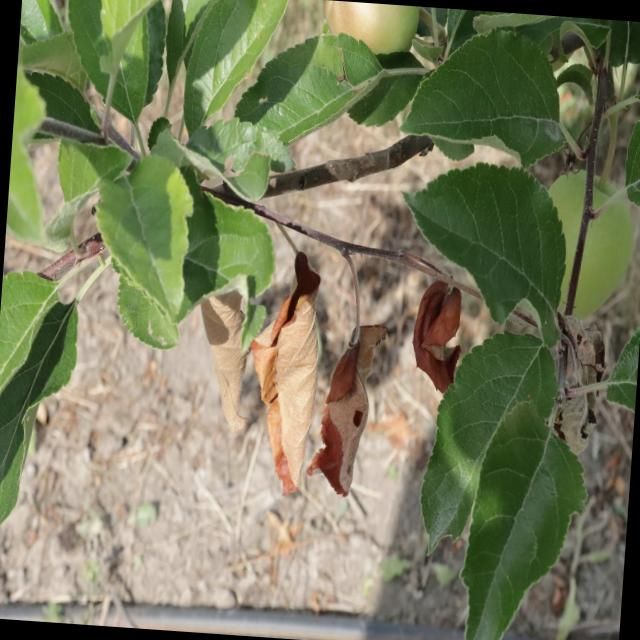-FireBlight-: (185, 244, 389, 507), (419, 274, 474, 404)
